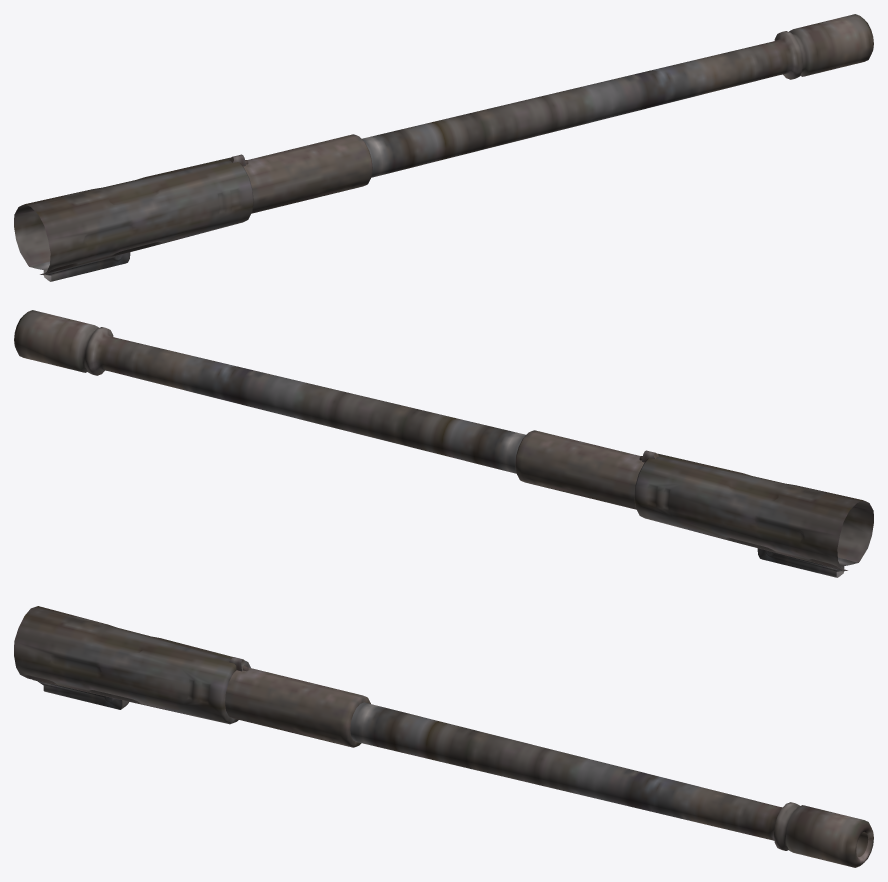
The model's file is HeavyWeapons_Vladof_Barrel_Strack.obj.
3 views of the same model, one above another, from view 1: azimuth 30°, elevation 25°; view 2: azimuth 150°, elevation 25°; view 3: azimuth 330°, elevation 25° (orthographic).
Parts seen in each view (by area): view 1: Barrel_Strack_SK_HW_VLA.028, Barrel_Strack_base_SK_HW_VLA.030; view 2: Barrel_Strack_SK_HW_VLA.028, Barrel_Strack_base_SK_HW_VLA.030; view 3: Barrel_Strack_SK_HW_VLA.028, Barrel_Strack_base_SK_HW_VLA.030.
Part boxes in pixels (<box>): Barrel_Strack_SK_HW_VLA.028: <box>243,14,873,213</box>; Barrel_Strack_base_SK_HW_VLA.030: <box>14,154,253,281</box>; Barrel_Strack_SK_HW_VLA.028: <box>14,310,644,509</box>; Barrel_Strack_base_SK_HW_VLA.030: <box>634,450,873,577</box>; Barrel_Strack_SK_HW_VLA.028: <box>225,667,873,867</box>; Barrel_Strack_base_SK_HW_VLA.030: <box>14,606,250,724</box>.
Bounding box in the file's own units: 114 × 10.08 × 8.66.
